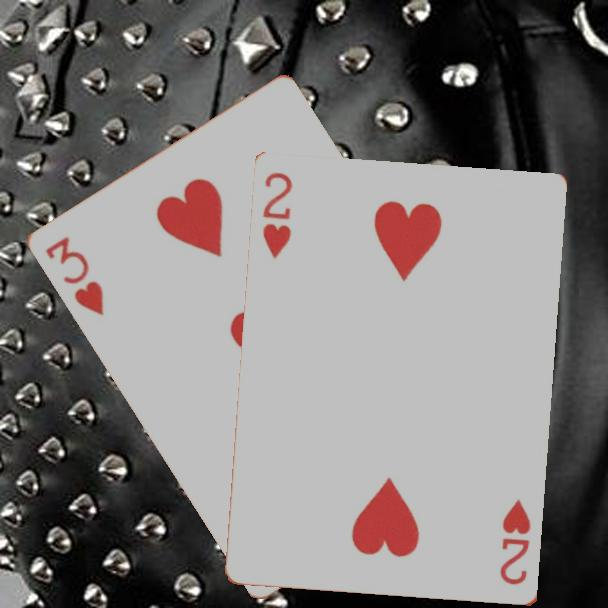h02: (496, 496, 534, 589), (259, 169, 296, 263)
h03: (41, 233, 107, 318)
